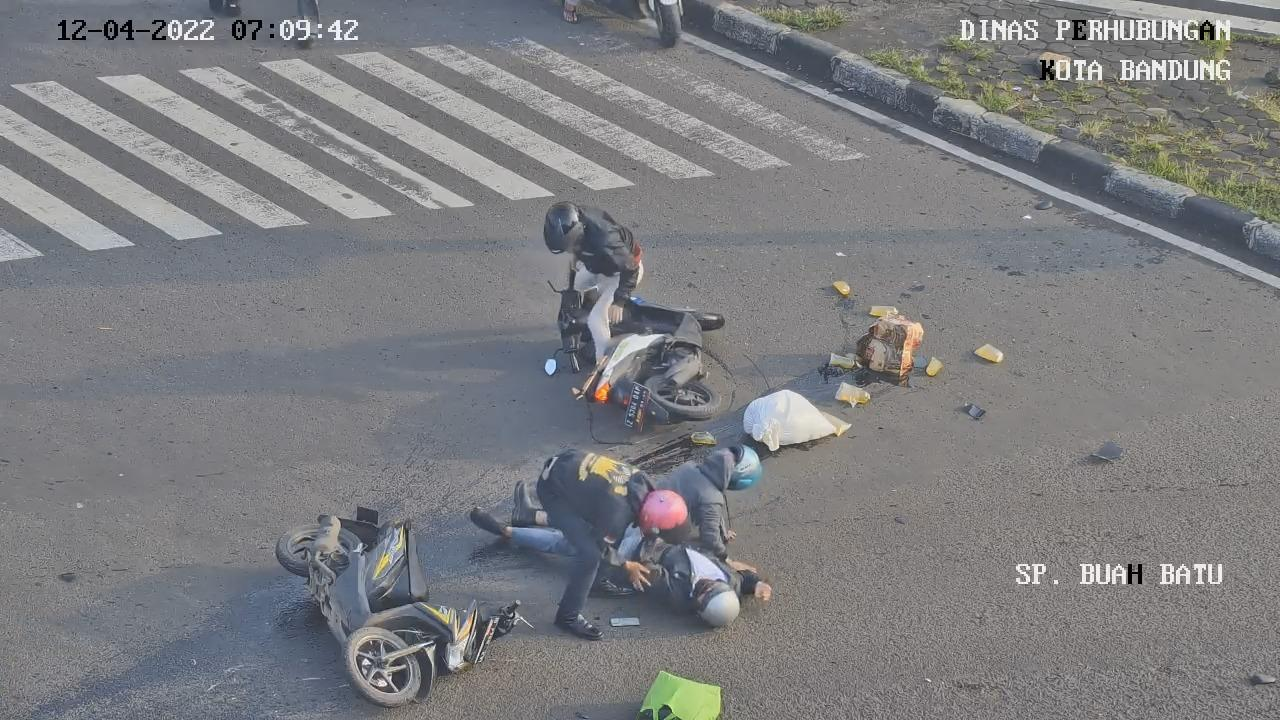accident: (470, 479, 774, 632), (654, 436, 780, 574)
